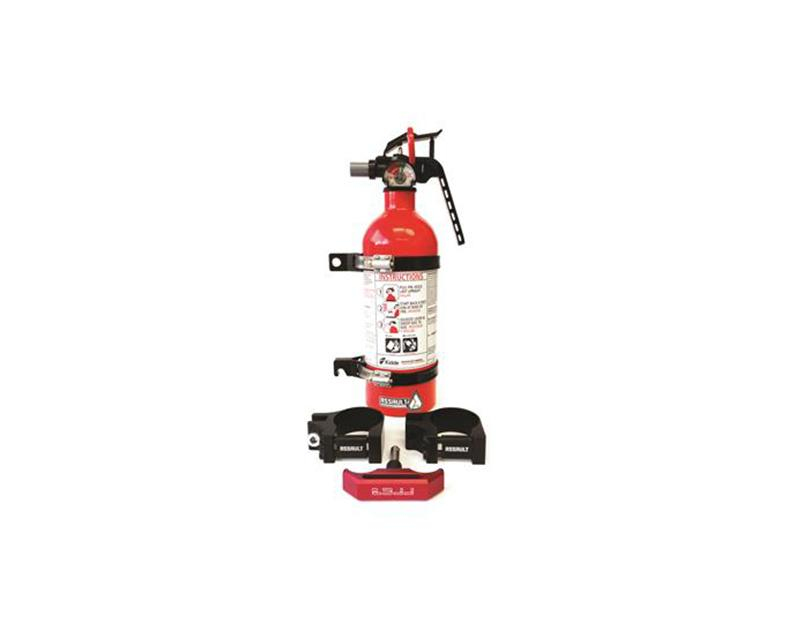Fire Extinguisher: (248, 85, 502, 517)
